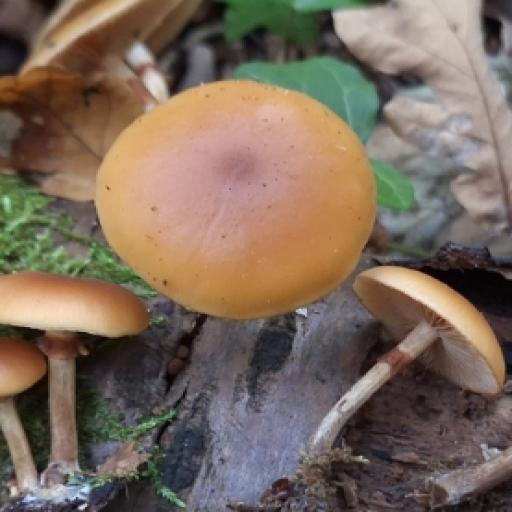mushroom: (85, 66, 380, 324), (356, 261, 508, 454), (0, 267, 131, 451)
